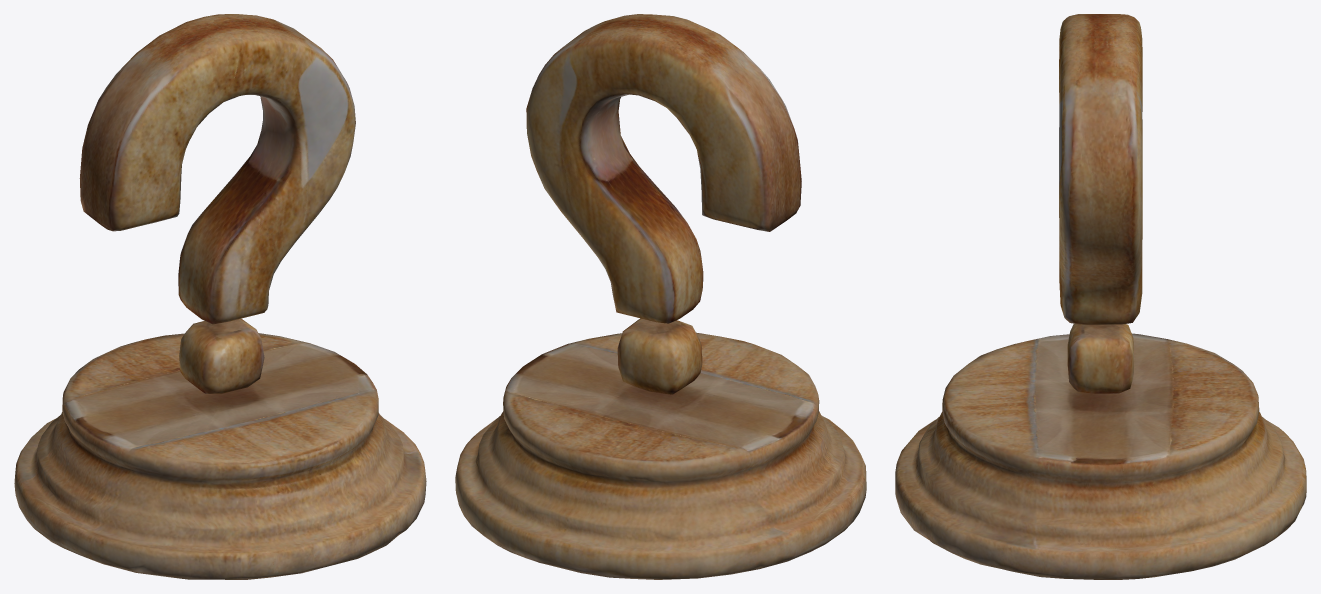
Rendered from testQuestion.glb.
3 renders of one model, left to right at view 1: azimuth 30°, elevation 25°; view 2: azimuth 150°, elevation 25°; view 3: azimuth 270°, elevation 25°, orthographic.
Parts seen in each view (by area): view 1: Mesh_0; view 2: Mesh_0; view 3: Mesh_0.
Part boxes in pixels (x1,y1,x2,y2): Mesh_0: (14,14,426,579); Mesh_0: (455,14,866,579); Mesh_0: (895,14,1306,579).
Size of the model in its own units: 0.7944 by 1 by 0.7973.
1 material, 1 textured.
